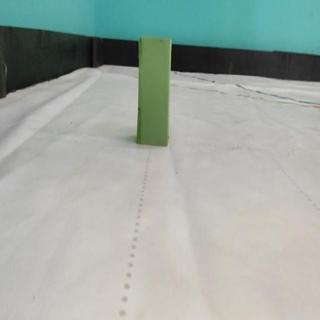greenbox: (135, 35, 173, 146)
